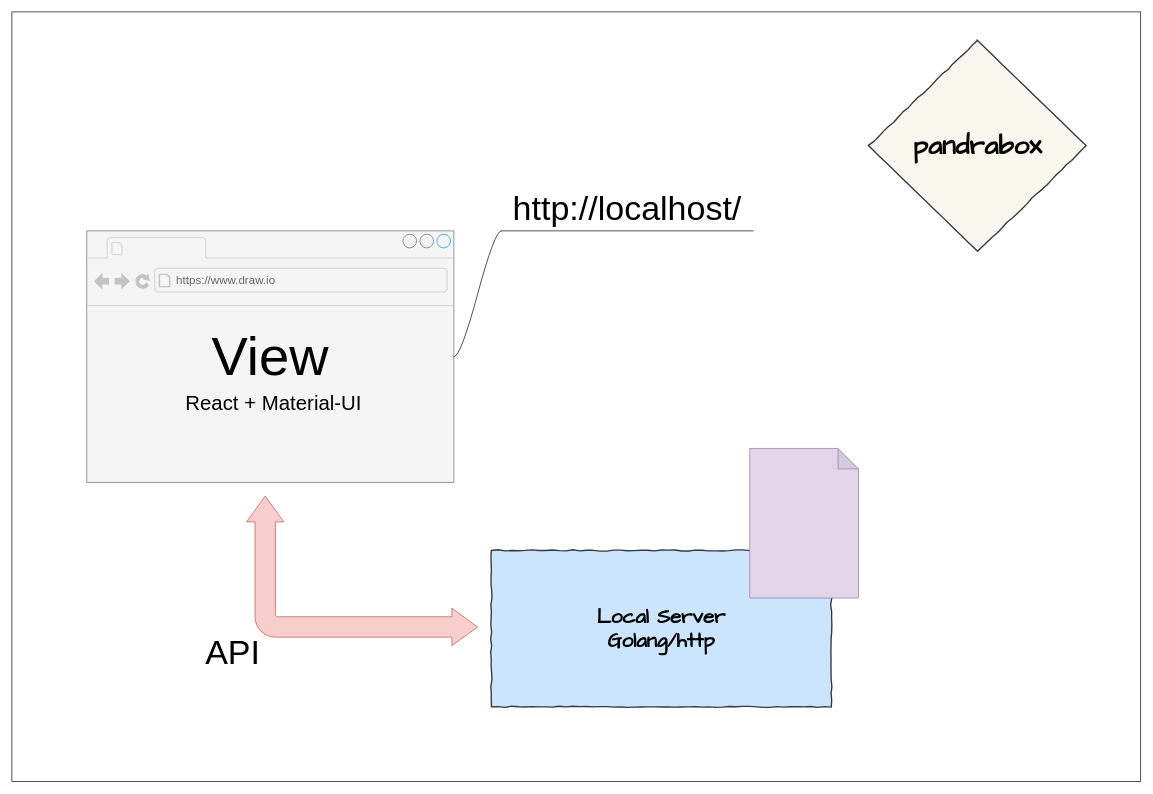
The diagram is 1153 pixels wide and 794 high, and some of its shapes have lost their labels. The shapes that lost their labels are listed below. From the top down, each one's box as (x1, y1, x2, y2) in pixels, then its label:
(127, 238, 202, 257): Page 1
(749, 448, 859, 598): Sqlite
